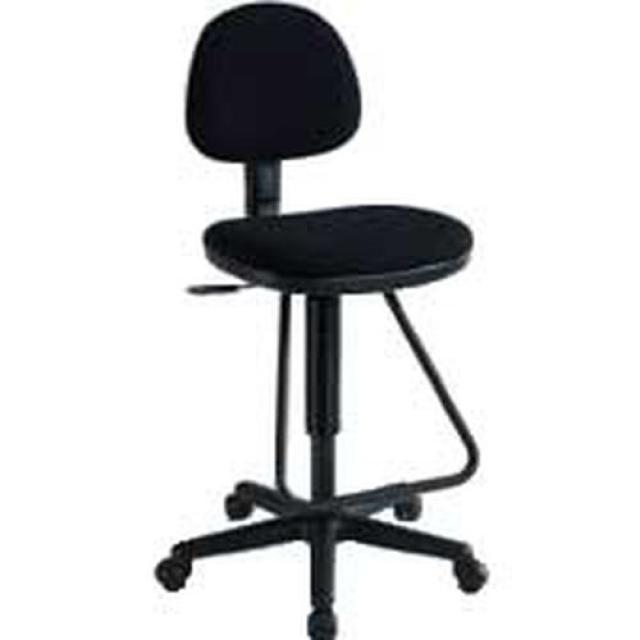swivelchair: (154, 4, 490, 640)
